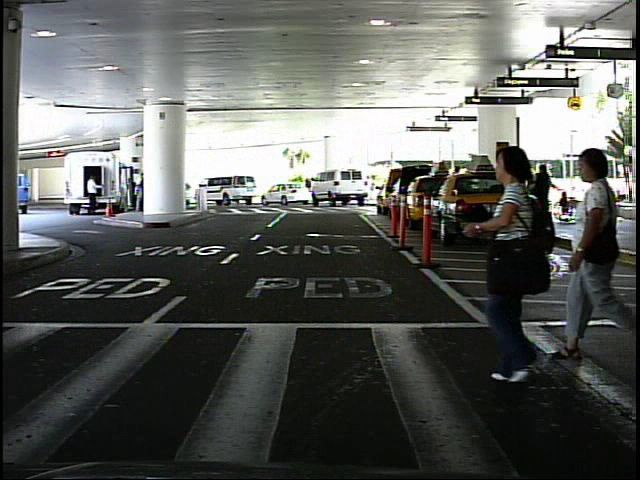person: (469, 138, 558, 396), (82, 170, 101, 220), (364, 171, 379, 206), (596, 172, 597, 218)
